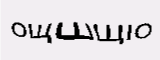А: (43, 10, 64, 33)
Г: (117, 18, 128, 39)
И: (98, 17, 114, 40)
Л: (66, 14, 80, 37)
Р: (82, 17, 94, 38)
